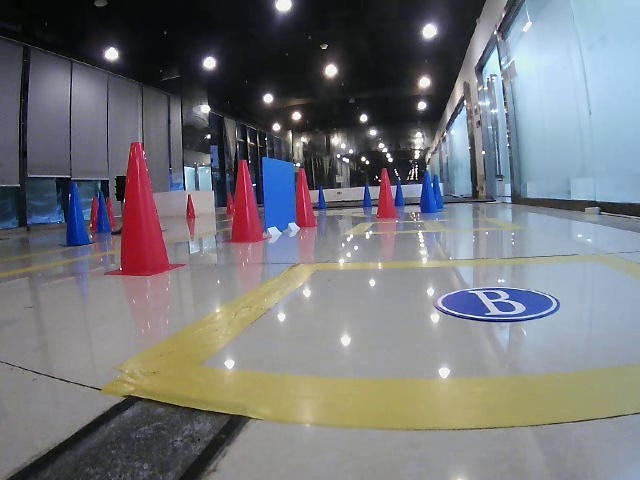B: (435, 288, 556, 320)
